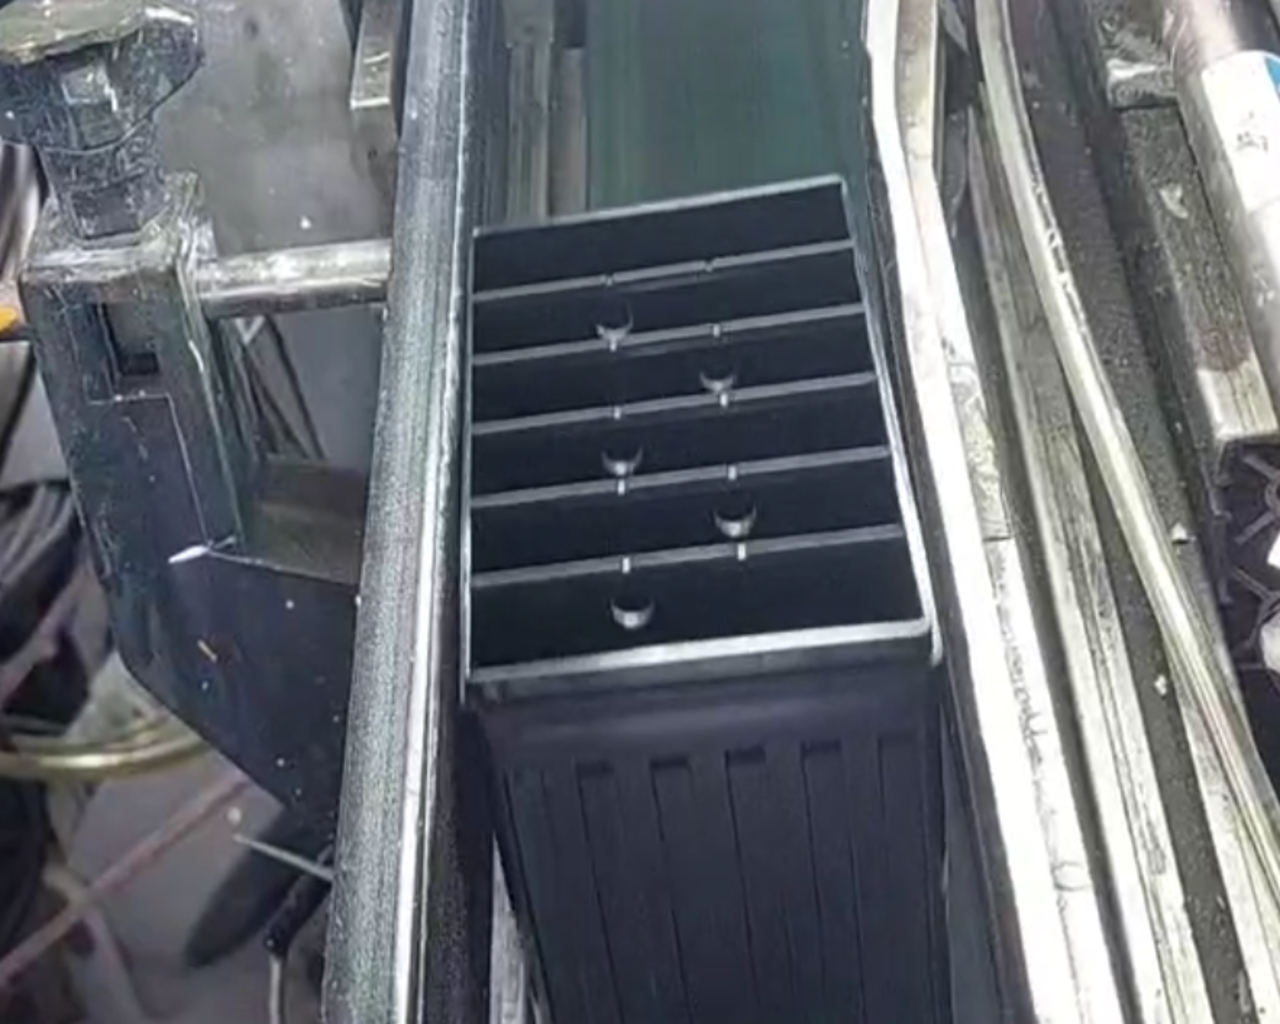box: (436, 161, 956, 722)
round: (581, 417, 658, 483), (692, 479, 772, 541), (596, 575, 669, 638), (579, 287, 647, 348), (686, 341, 750, 400)
